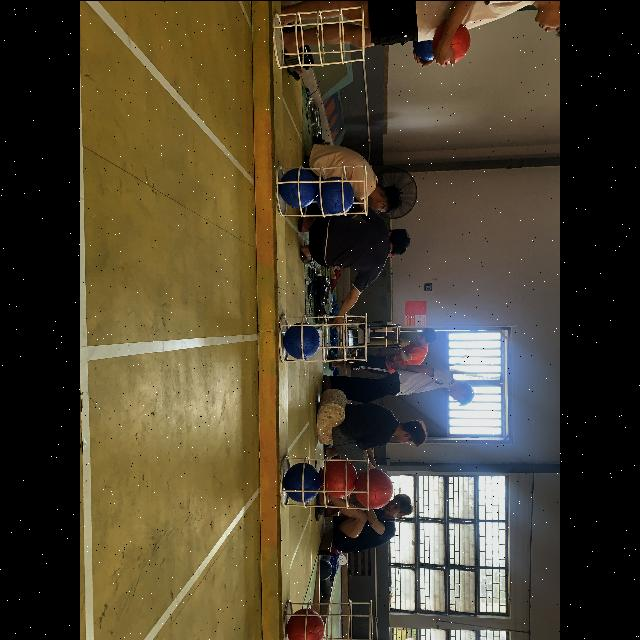B: (280, 320, 322, 360), (278, 166, 316, 208), (284, 463, 320, 502), (319, 176, 353, 214), (410, 35, 438, 63)
R: (433, 18, 471, 66), (357, 468, 395, 508), (322, 459, 360, 499), (284, 604, 326, 640)
